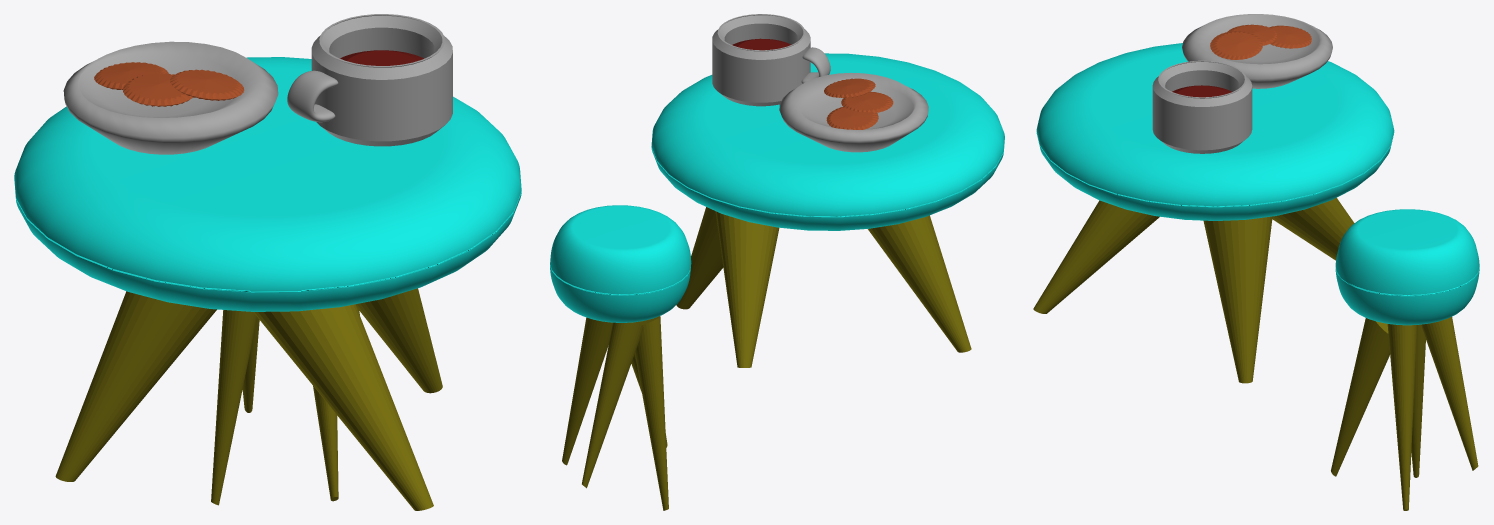
The model's file is kahwa.gltf.
3 views of the same model, side by side, from view 1: azimuth 30°, elevation 25°; view 2: azimuth 150°, elevation 25°; view 3: azimuth 270°, elevation 25° (orthographic). The views are drawn at different scales.
Parts seen in each view (by area): view 1: Circle.003, Circle.009, Circle.005, Cylinder.004, Cylinder, Cylinder.001, Cylinder.006, Circle.004, Circle.010, Circle.002, Cylinder.008, Circle.008 (+2 smaller); view 2: Circle.003, Circle.007, Circle.009, Circle.005, Cylinder.003, Cylinder, Cylinder.006, Cylinder.007, Cylinder.005, Cylinder.001, Circle.008, Circle.002 (+2 smaller); view 3: Circle.003, Circle.007, Circle.009, Cylinder.001, Circle.005, Cylinder.004, Cylinder.008, Cylinder.005, Cylinder.007, Cylinder.003, Cylinder.006, Circle.004 (+3 smaller).
Part boxes in pixels (<box>): Circle.003: <box>14,57,521,311</box>; Circle.009: <box>311,14,452,146</box>; Circle.005: <box>63,41,278,154</box>; Cylinder.004: <box>253,304,433,510</box>; Cylinder: <box>55,291,216,481</box>; Cylinder.001: <box>355,288,442,393</box>; Cylinder.006: <box>211,310,257,505</box>; Circle.004: <box>170,69,244,100</box>; Circle.010: <box>287,70,338,122</box>; Circle.002: <box>123,73,192,106</box>; Cylinder.008: <box>313,386,338,501</box>; Circle.008: <box>94,62,168,89</box>; Circle.003: <box>651,53,1004,230</box>; Circle.007: <box>550,205,691,322</box>; Circle.009: <box>712,14,810,106</box>; Circle.005: <box>779,72,928,152</box>; Cylinder.003: <box>715,211,779,367</box>; Cylinder: <box>868,215,971,352</box>; Cylinder.006: <box>635,316,668,510</box>; Cylinder.007: <box>582,322,643,488</box>; Cylinder.005: <box>562,317,612,465</box>; Cylinder.001: <box>676,207,723,309</box>; Circle.008: <box>826,107,878,129</box>; Circle.002: <box>841,91,893,113</box>; Circle.003: <box>1036,43,1394,220</box>; Circle.007: <box>1335,209,1479,325</box>; Circle.009: <box>1152,60,1252,153</box>; Cylinder.001: <box>1203,216,1272,383</box>; Circle.005: <box>1182,14,1332,88</box>; Cylinder.004: <box>1033,200,1159,313</box>; Cylinder.008: <box>1331,318,1389,476</box>; Cylinder.005: <box>1387,324,1416,510</box>; Cylinder.007: <box>1421,316,1478,470</box>; Cylinder.003: <box>1272,198,1354,260</box>; Cylinder.006: <box>1411,324,1425,477</box>; Circle.004: <box>1210,31,1262,59</box>.
Size of what is drawn, in the model's own units: 15.51 by 18.07 by 18.15.
